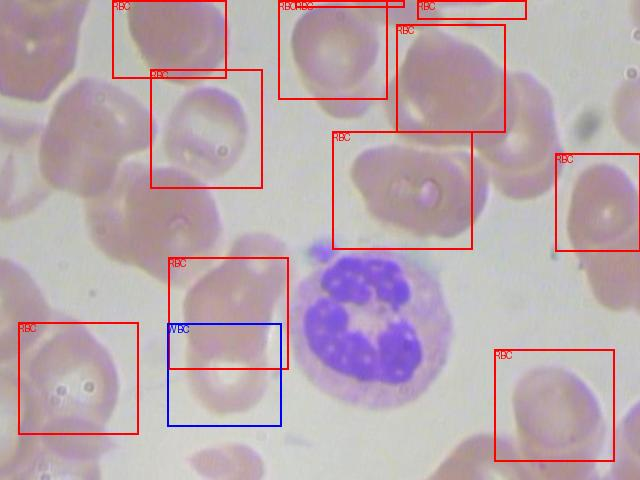RBC: (332, 131, 472, 249), (494, 349, 614, 461), (168, 257, 288, 369), (18, 322, 138, 434), (150, 69, 262, 188), (396, 24, 505, 132), (278, 0, 387, 99), (112, 0, 226, 78), (555, 153, 640, 251), (417, 0, 526, 19), (295, 0, 404, 7)
WBC: (167, 323, 281, 426)
